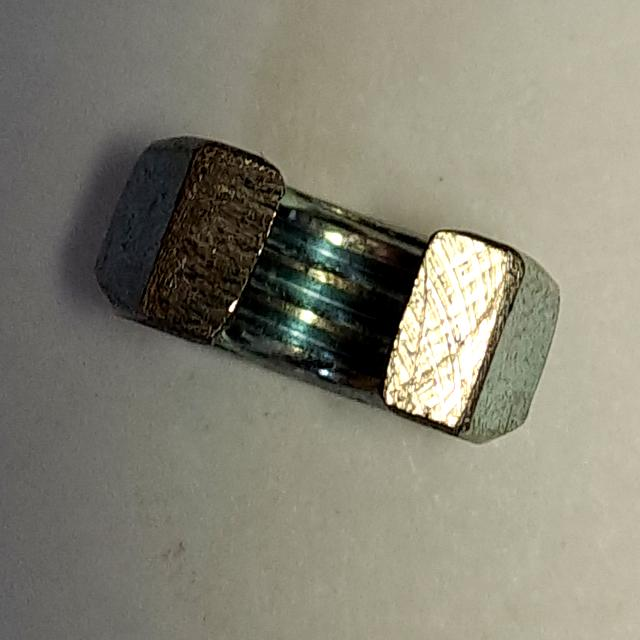Side-Fracture: (76, 119, 569, 460)
